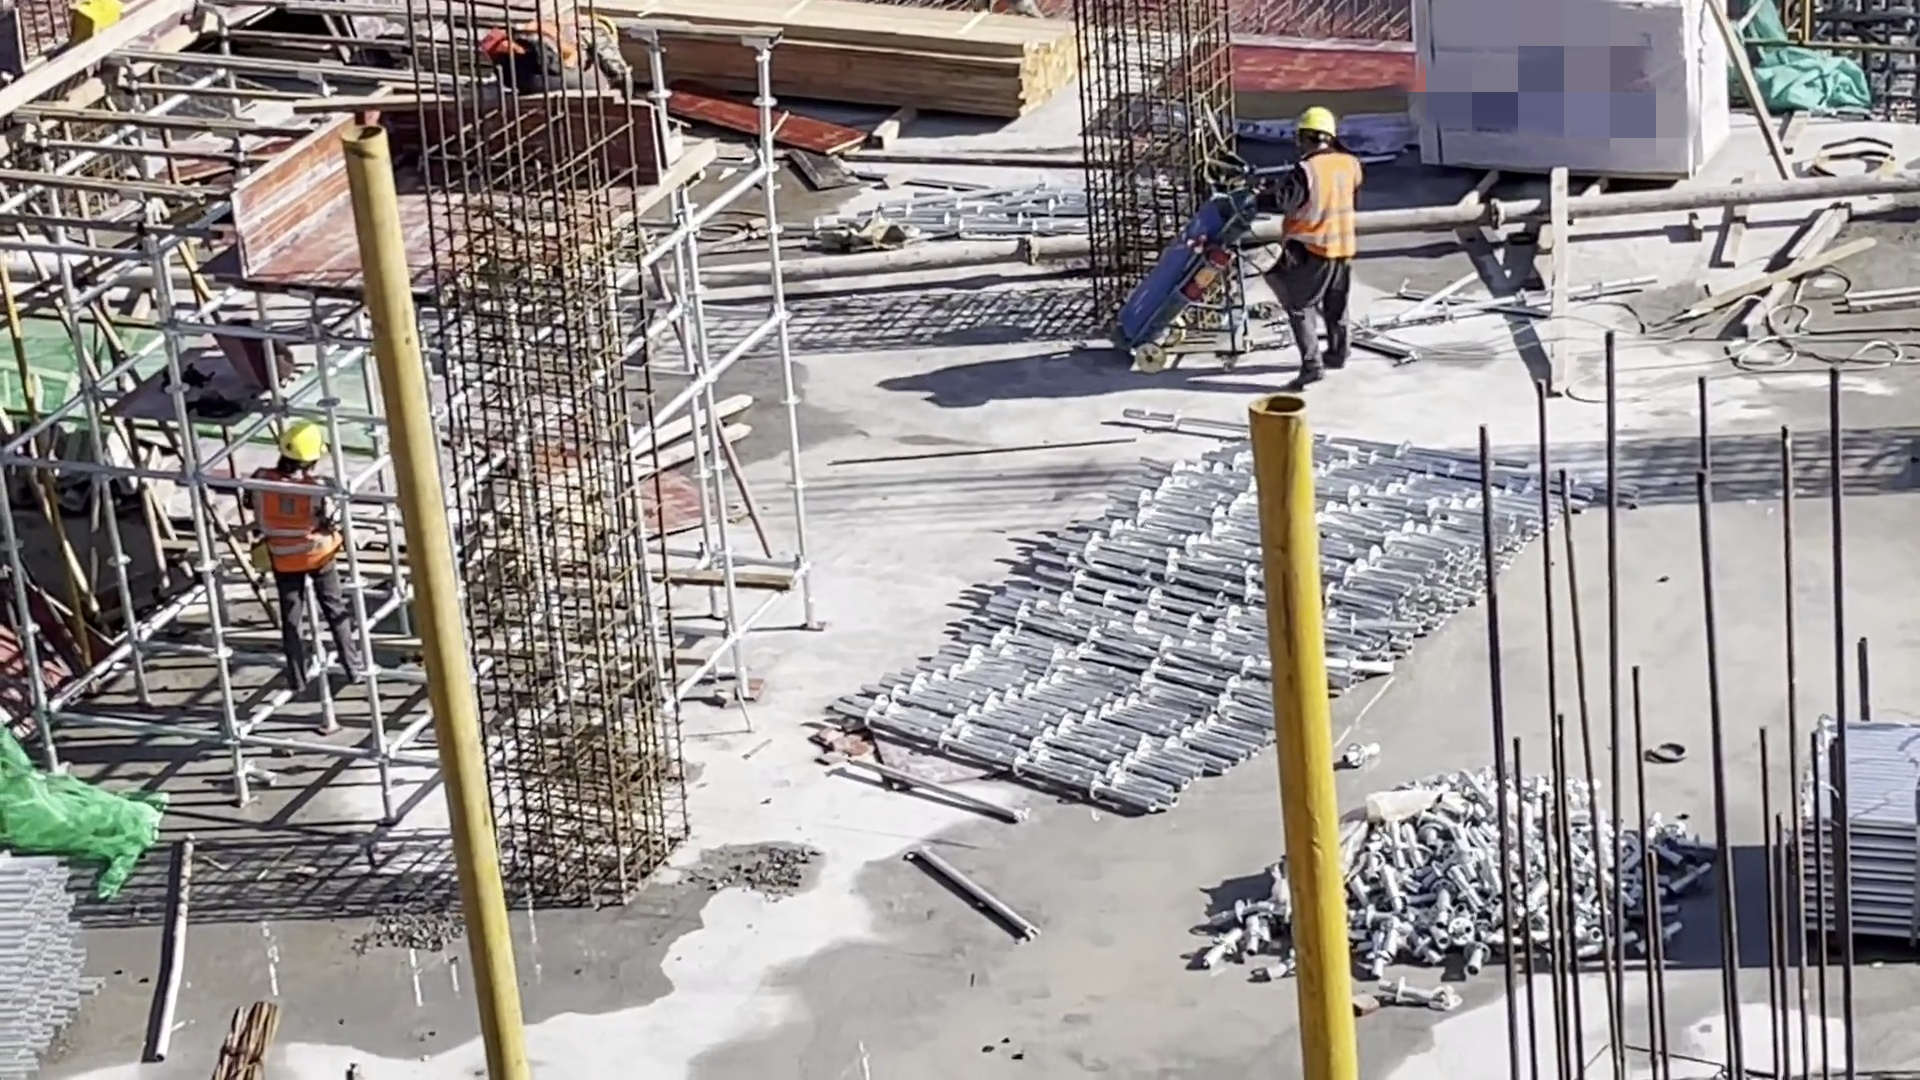helmet: (283, 417, 325, 461), (1292, 102, 1333, 138)
person: (248, 416, 362, 693), (1280, 103, 1358, 388), (492, 13, 632, 101)
scaffold: (826, 402, 1635, 818), (1785, 711, 1920, 948)
vest: (254, 471, 336, 568), (1295, 151, 1359, 266), (498, 17, 589, 80)
wood: (648, 2, 1078, 125)
